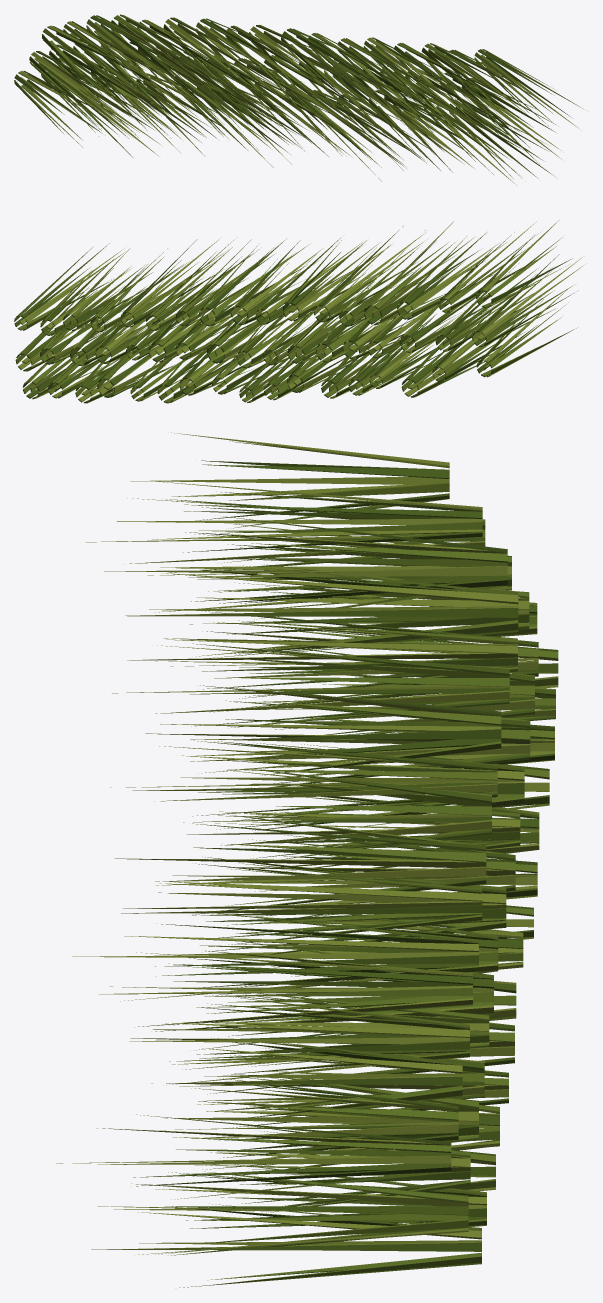
The model's file is path_grass.obj.
3 views of the same model, one above another, from view 1: azimuth 30°, elevation 25°; view 2: azimuth 150°, elevation 25°; view 3: azimuth 270°, elevation 25° (orthographic). The views are drawn at different scales.
Visible parts, largest first — view 1: path_grass; view 2: path_grass; view 3: path_grass.
Part boxes in pixels (<box>): path_grass: <box>14,14,586,185</box>; path_grass: <box>14,220,583,403</box>; path_grass: <box>56,432,558,1287</box>.
Size of the model in its own units: 7.83 by 3.48 by 3.59.
